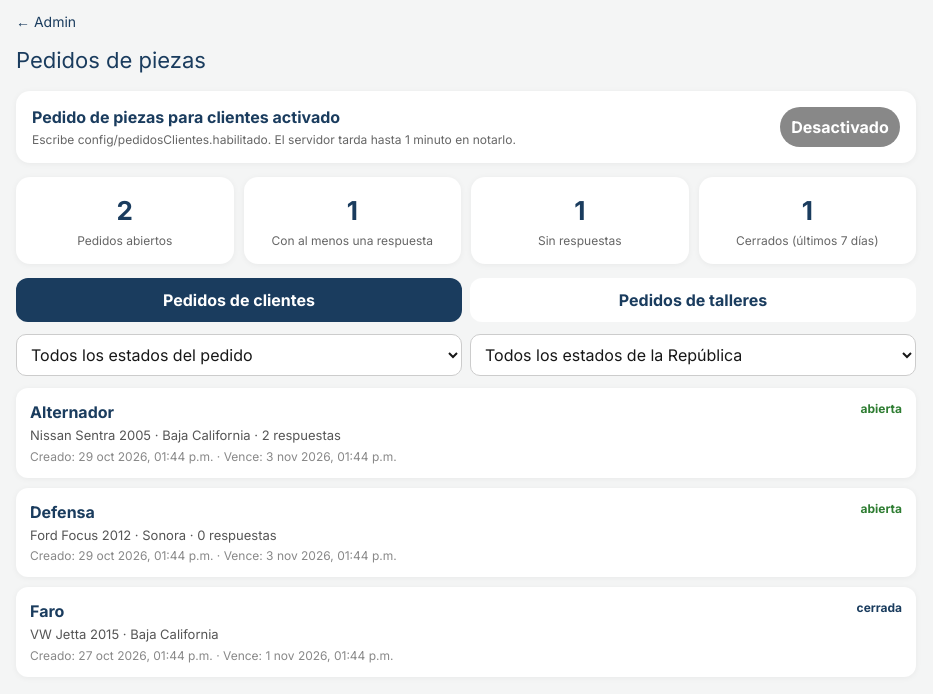
panel admin "Pedidos de piezas" › filtra por estado del pedido y por estado de la República
Check: the text "Alternador" is shown, box [30, 400, 114, 424]
Select "cerrada" in the dropdown named "Filtrar por estado del pedido" at (239, 355), box [16, 334, 462, 376]
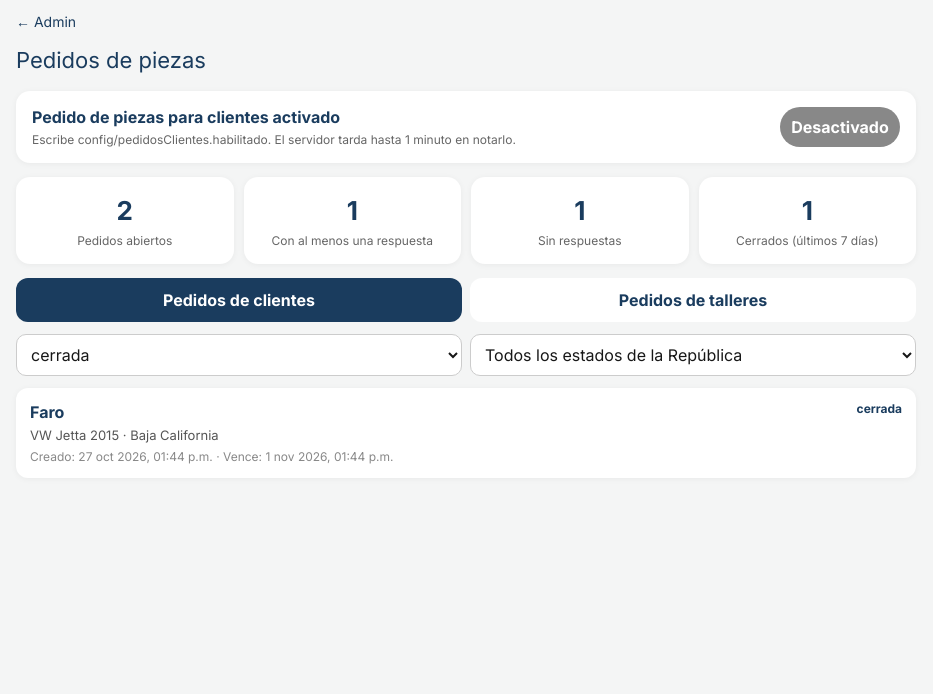
Check: the text "Faro" is shown, box [30, 400, 64, 424]
Check: the button "Alternador" is gone
Select "Todos los estados del pedido" in the dropdown named "Filtrar por estado del pedido" at (239, 355), box [16, 334, 462, 376]
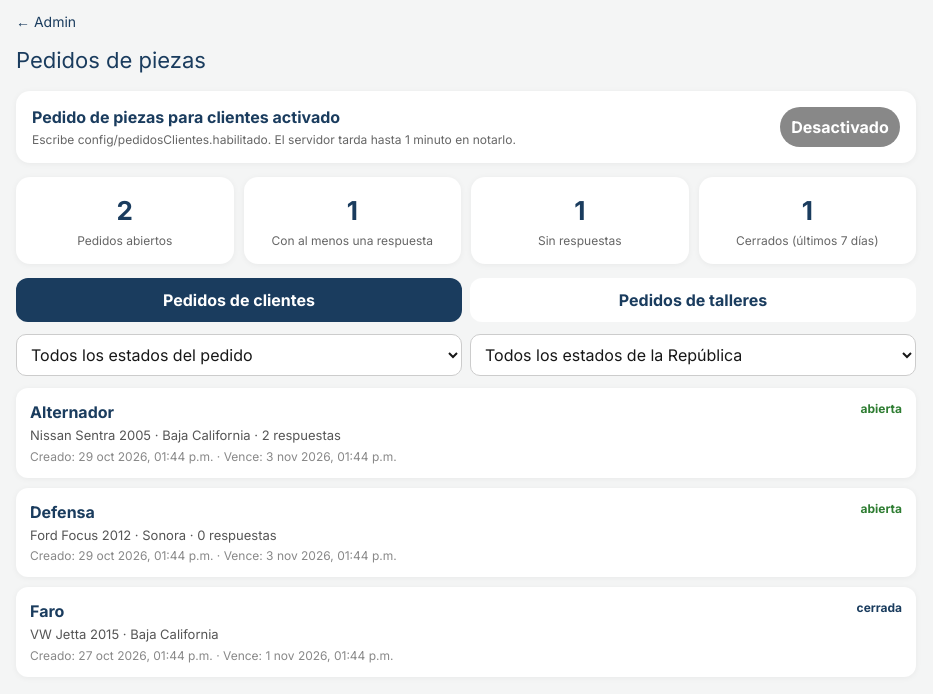
Select "Sonora" in the dropdown named "Filtrar por estado de la República" at (693, 355), box [470, 334, 916, 376]
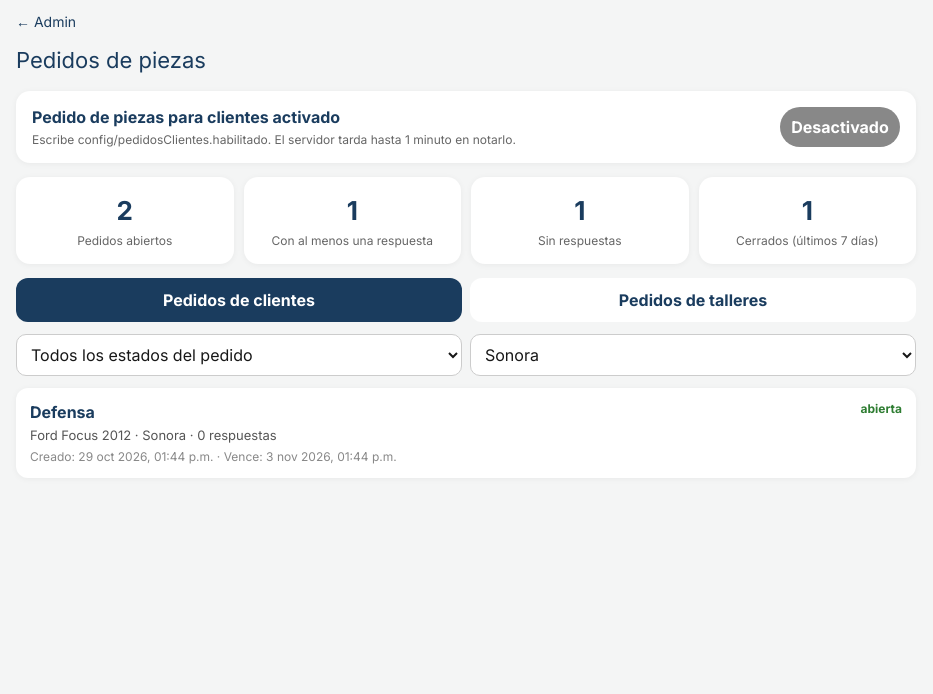
Check: the text "Defensa" is shown, box [30, 400, 95, 424]
Check: the button "Alternador" is gone
